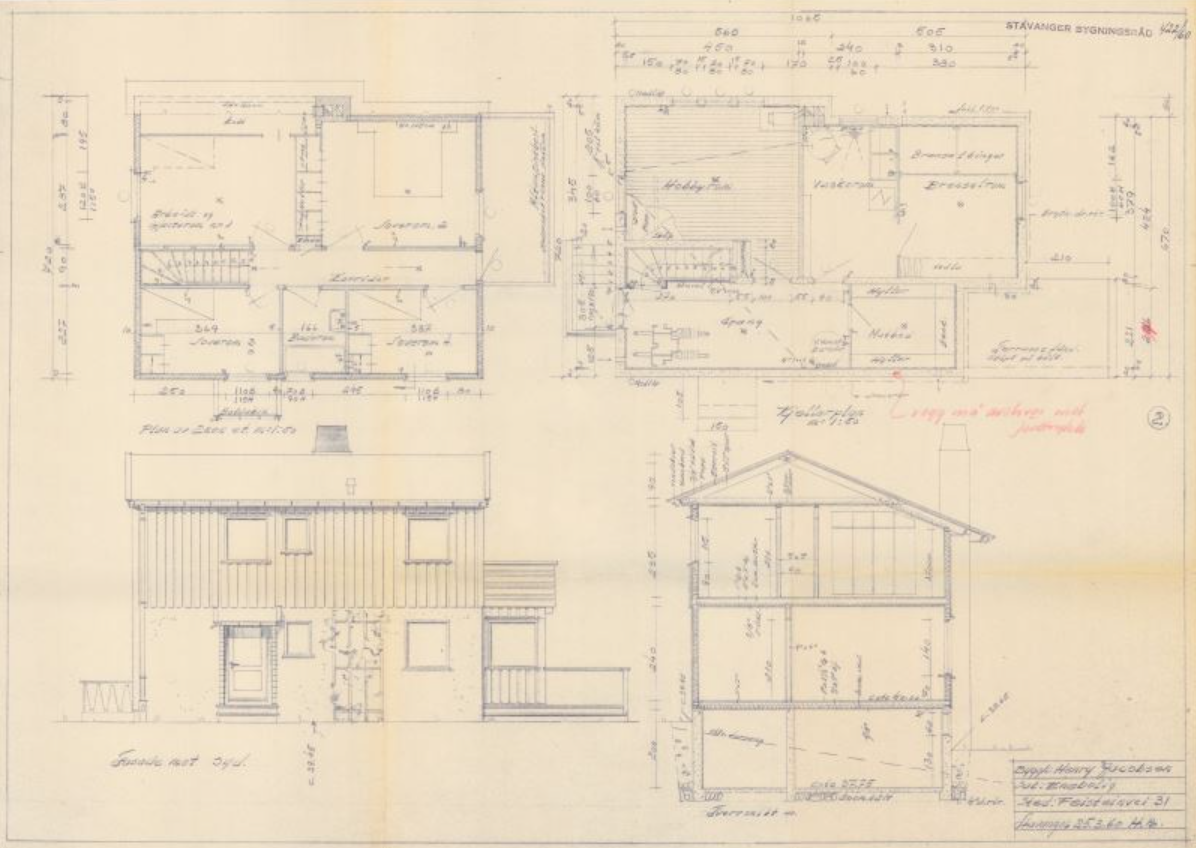fasade: (127, 426, 633, 718)
plantegning: (134, 91, 557, 379), (611, 95, 1032, 378)
snitt: (673, 442, 1012, 800)
